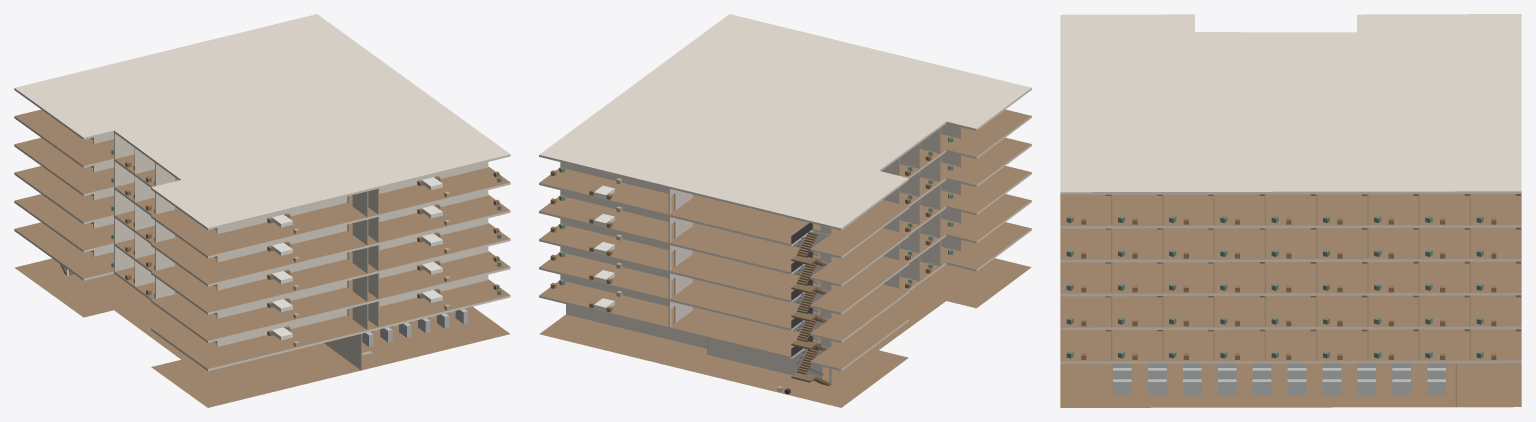
The model's file is interior.glb.
The picture shows the model from 3 angles, left to right: view 1: azimuth 30°, elevation 25°; view 2: azimuth 150°, elevation 25°; view 3: azimuth 270°, elevation 25°; orthographic projection. The views are drawn at different scales.
Parts seen in each view (by area): view 1: slabs, partitions, coarse-s0, coarse-s5, coarse-s1, coarse-s3, coarse-s4, coarse-s2; view 2: slabs, partitions, stair, coarse-s4, coarse-s5, coarse-s2, coarse-s1, coarse-s3; view 3: slabs, coarse-s0, partitions, coarse-s2, coarse-s3, coarse-s1, coarse-s4, coarse-s5.
Part boxes in pixels (left/top/right/bottom): slabs: left=14, top=14, right=510, bottom=407; partitions: left=66, top=132, right=488, bottom=370; coarse-s0: left=362, top=308, right=467, bottom=362; coarse-s5: left=90, top=138, right=501, bottom=234; coarse-s1: left=90, top=250, right=501, bottom=346; coarse-s3: left=90, top=194, right=501, bottom=290; coarse-s4: left=90, top=166, right=501, bottom=262; coarse-s2: left=90, top=222, right=501, bottom=318; slabs: left=539, top=14, right=1031, bottom=407; partitions: left=560, top=123, right=961, bottom=384; stair: left=791, top=223, right=831, bottom=385; coarse-s4: left=550, top=164, right=953, bottom=227; coarse-s5: left=550, top=136, right=953, bottom=199; coarse-s2: left=550, top=221, right=953, bottom=284; coarse-s1: left=550, top=249, right=953, bottom=312; coarse-s3: left=550, top=193, right=953, bottom=255; slabs: left=1060, top=14, right=1521, bottom=407; coarse-s0: left=1113, top=363, right=1445, bottom=395; partitions: left=1111, top=194, right=1470, bottom=406; coarse-s2: left=1066, top=295, right=1520, bottom=326; coarse-s3: left=1066, top=261, right=1520, bottom=292; coarse-s1: left=1066, top=329, right=1520, bottom=359; coarse-s4: left=1066, top=227, right=1520, bottom=258; coarse-s5: left=1066, top=194, right=1520, bottom=224.
Bounding box in the file's own units: 38.67 × 21.85 × 42.3.
